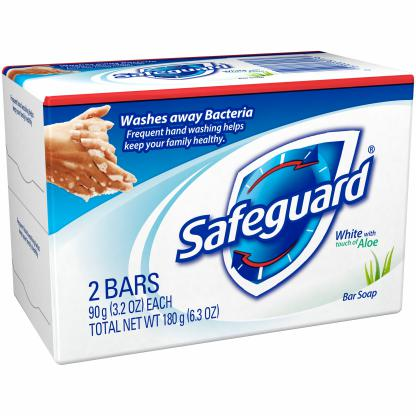soap: (0, 58, 415, 372)
